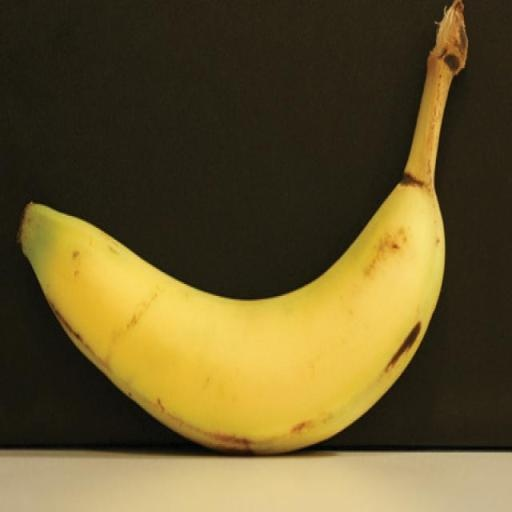fruit: (20, 1, 467, 453)
